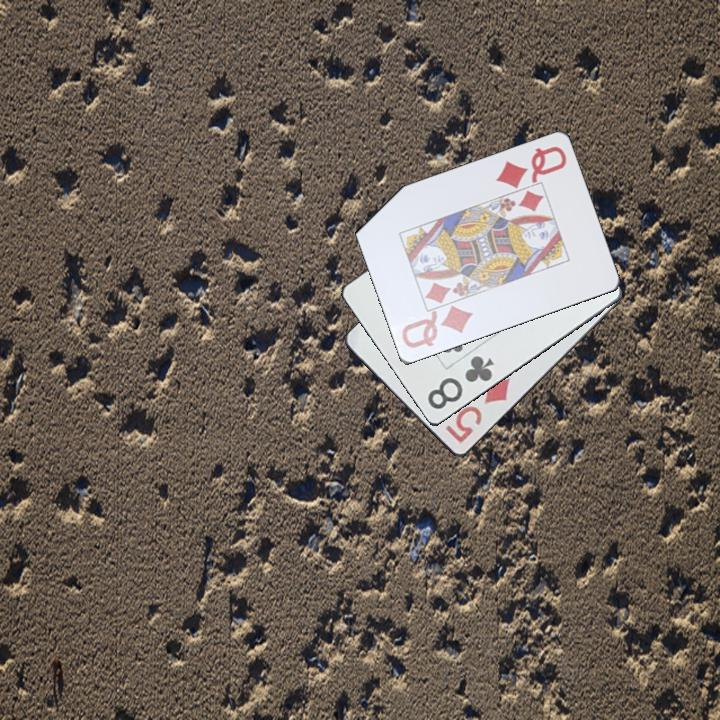5d: (442, 375, 513, 446)
8c: (424, 352, 498, 413)
Qd: (398, 303, 476, 352), (491, 143, 570, 191)
